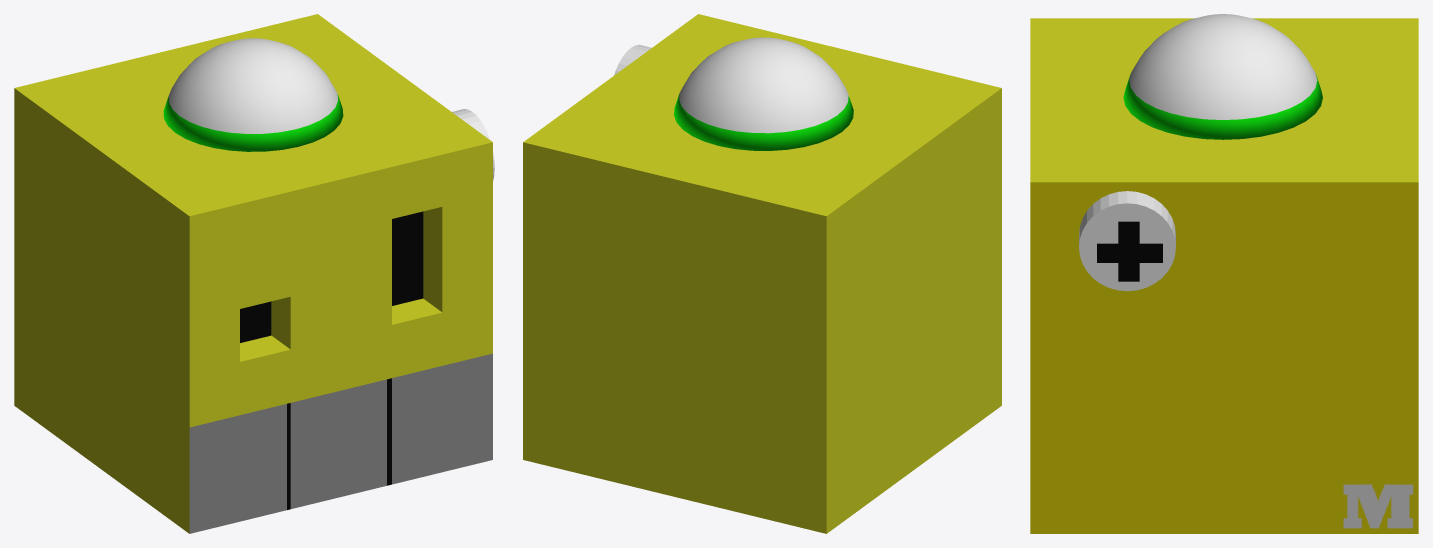
3 renders of one model, left to right at view 1: azimuth 30°, elevation 25°; view 2: azimuth 150°, elevation 25°; view 3: azimuth 270°, elevation 25°, orthographic. The views are drawn at different scales.
Visible parts, largest first — view 1: Cube; view 2: Cube; view 3: Cube.
Boxes of the visible parts, box(x1,y1,x2,y2) form: Cube: box(14, 14, 494, 533); Cube: box(523, 14, 1001, 533); Cube: box(1030, 14, 1418, 533).
Bounding box in the file's own units: 2.16 × 2.43 × 2.
Materials: 8 (1 with a texture image).
